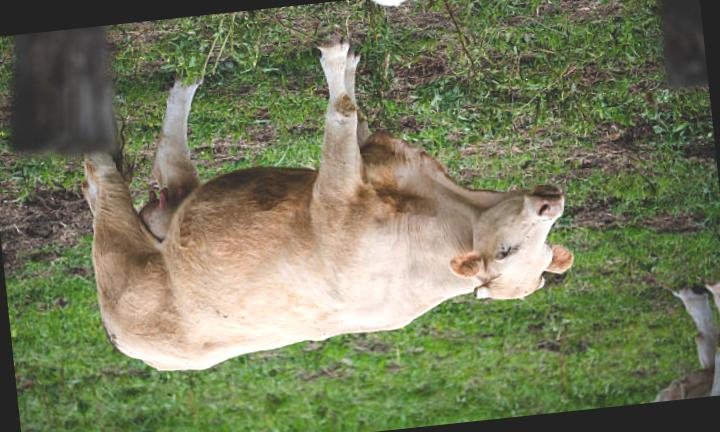Charolais: (85, 40, 573, 370)
